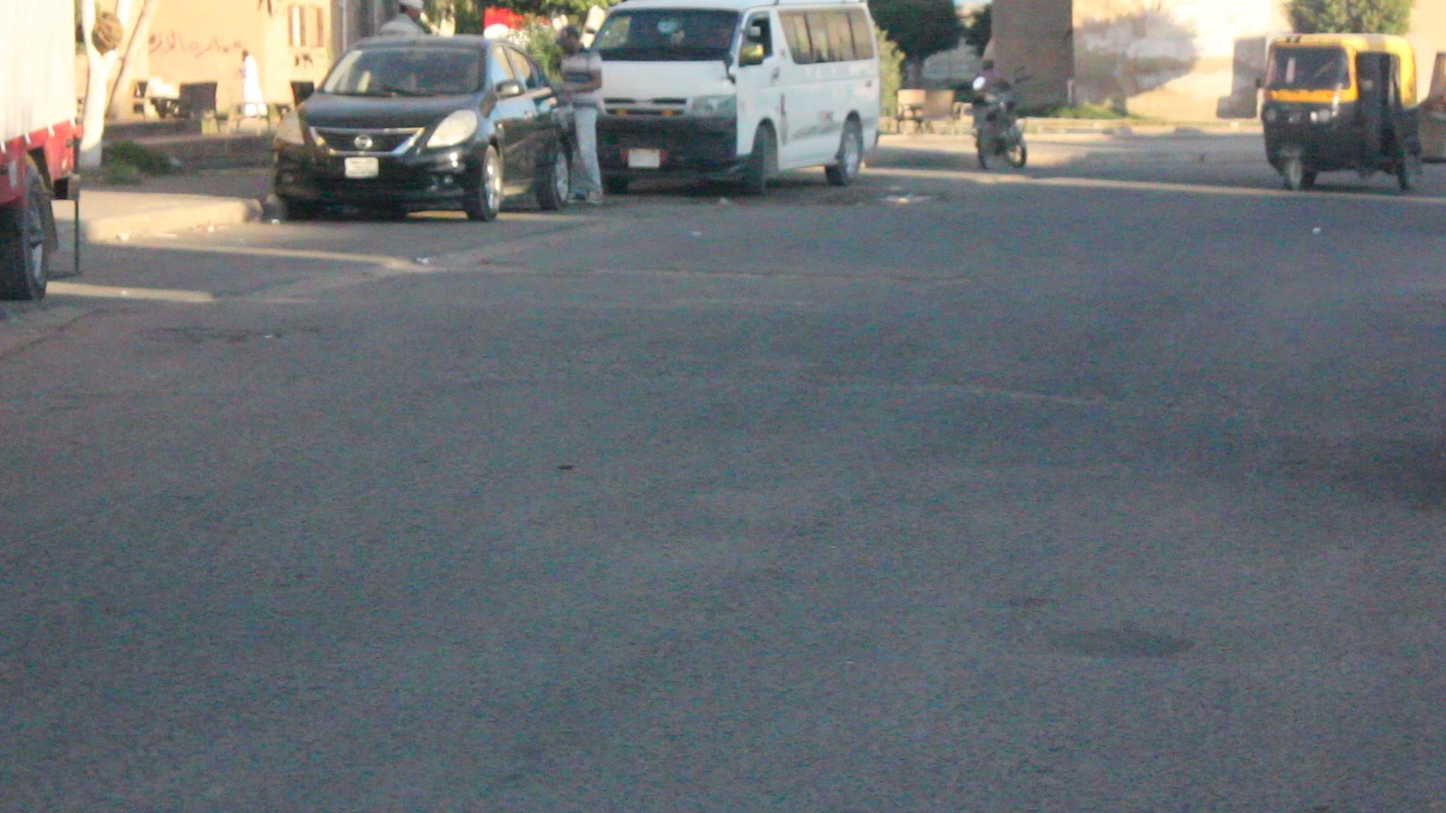Pothole: (808, 343, 1231, 450)
